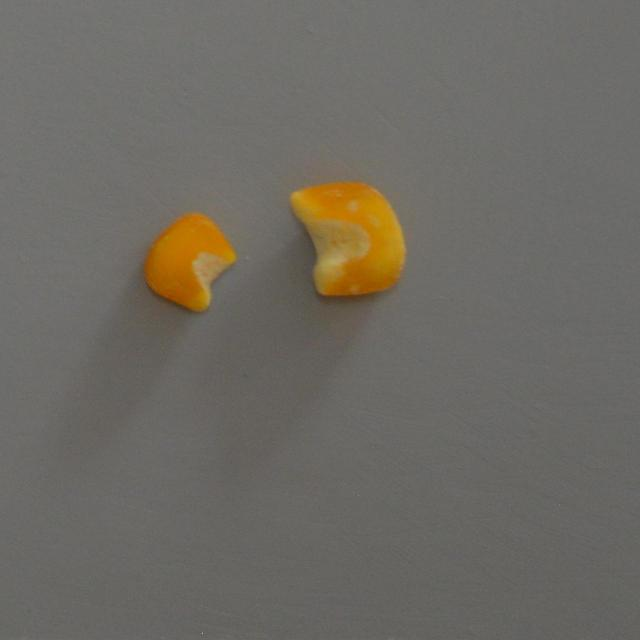no_canjicado: (140, 210, 237, 312)
pelicula: (290, 180, 406, 298)
